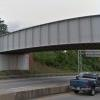Car: (66, 66, 100, 100)
